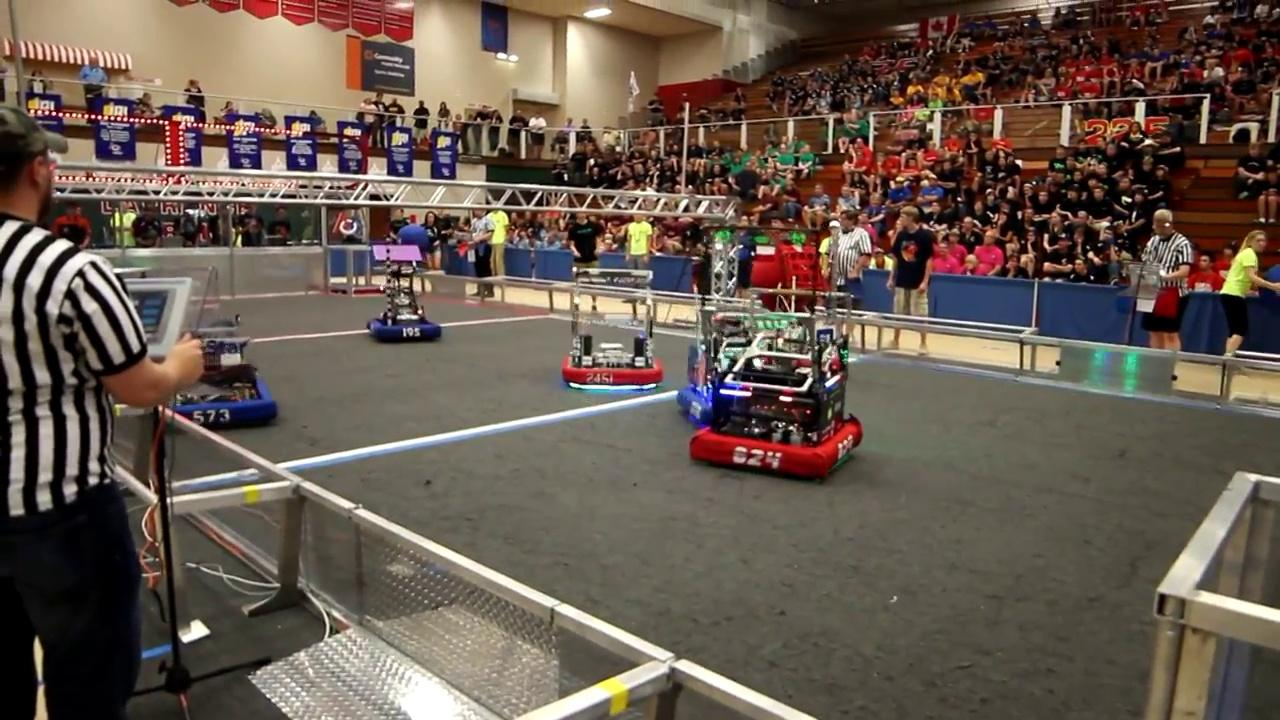robot: (686, 286, 870, 485), (156, 309, 283, 439), (559, 262, 668, 397), (362, 241, 446, 349)
